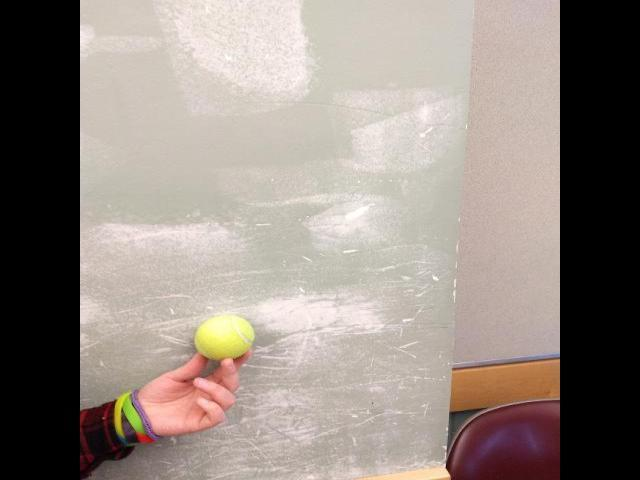tennis-ball: (193, 314, 255, 362)
